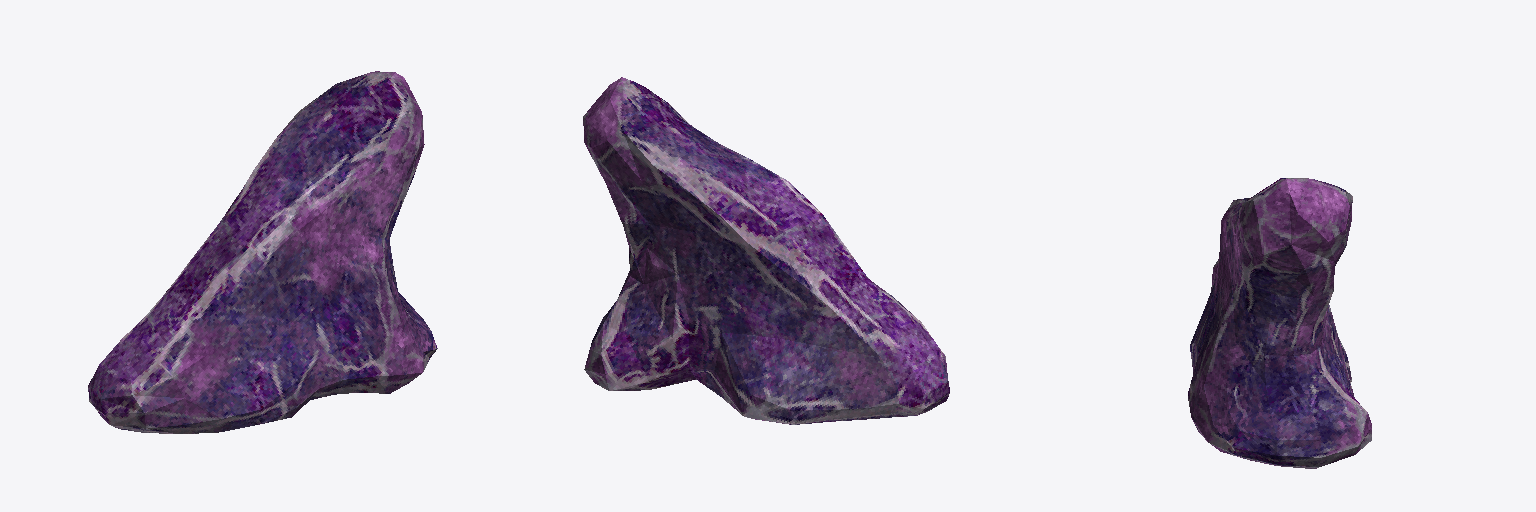
3 renders of one model, left to right at view 1: azimuth 30°, elevation 25°; view 2: azimuth 150°, elevation 25°; view 3: azimuth 270°, elevation 25°, orthographic.
Visible parts, largest first — view 1: Claw_stone_Big_rock_atlas_0; view 2: Claw_stone_Big_rock_atlas_0; view 3: Claw_stone_Big_rock_atlas_0.
Part boxes in pixels (left/top/right/bottom): Claw_stone_Big_rock_atlas_0: left=88, top=71, right=437, bottom=433; Claw_stone_Big_rock_atlas_0: left=583, top=77, right=949, bottom=424; Claw_stone_Big_rock_atlas_0: left=1188, top=178, right=1371, bottom=468.
Size of the model in its own units: 12.14 by 10.11 by 5.78.
1 materials, 1 textured.